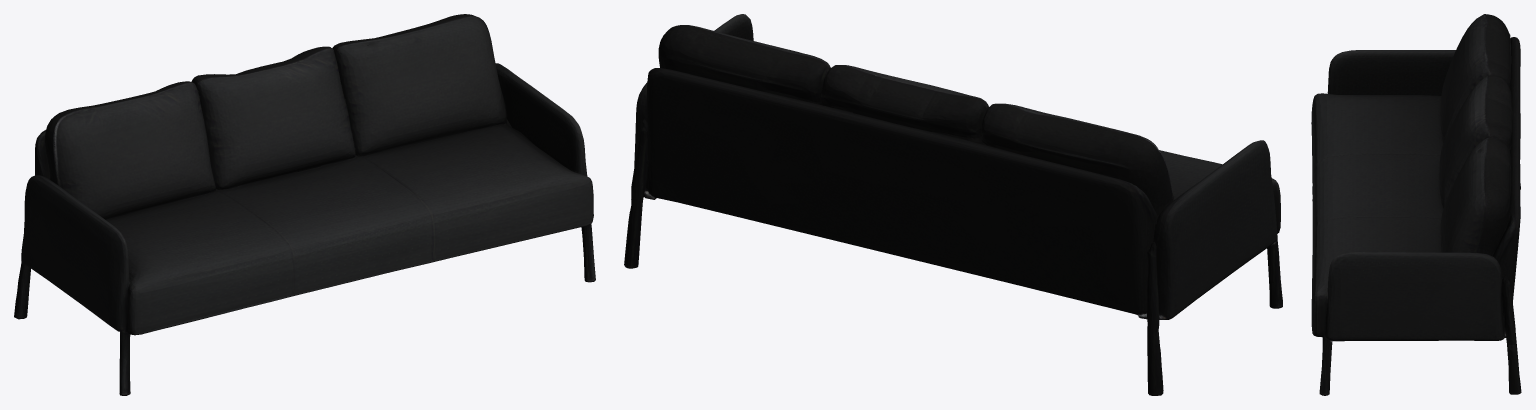
3 views of the same model, side by side, from view 1: azimuth 30°, elevation 25°; view 2: azimuth 150°, elevation 25°; view 3: azimuth 270°, elevation 25° (orthographic). The views are drawn at different scales.
Parts seen in each view (by area): view 1: world; view 2: world; view 3: world.
Boxes of the visible parts, x1,y1,x2,y2 form: world: (14, 14, 595, 395); world: (624, 14, 1282, 395); world: (1311, 14, 1521, 395).
Bounding box in the file's own units: 0.9986 × 0.4173 × 0.4223.
Materials: 1 (1 with a texture image).
